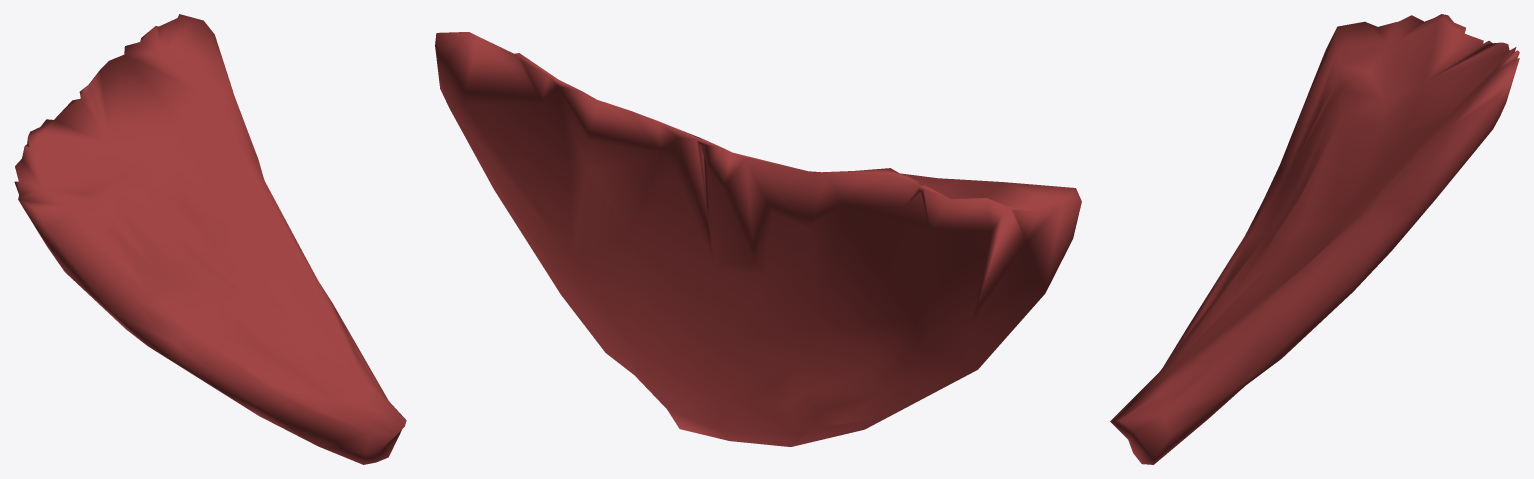
Rendered from rectus-posterior-minor-capitis-muscle-r.glb.
3 views of the same model, side by side, from view 1: azimuth 30°, elevation 25°; view 2: azimuth 150°, elevation 25°; view 3: azimuth 270°, elevation 25° (orthographic). The views are drawn at different scales.
Visible parts, largest first — view 1: Rectus posterior minor capitis muscle.r; view 2: Rectus posterior minor capitis muscle.r; view 3: Rectus posterior minor capitis muscle.r.
Part boxes in pixels (x1,y1,x2,y2): Rectus posterior minor capitis muscle.r: [14, 14, 406, 464]; Rectus posterior minor capitis muscle.r: [435, 32, 1081, 446]; Rectus posterior minor capitis muscle.r: [1110, 14, 1519, 464].
Size of the model in its own units: 0.0236 by 0.026 by 0.0253.
